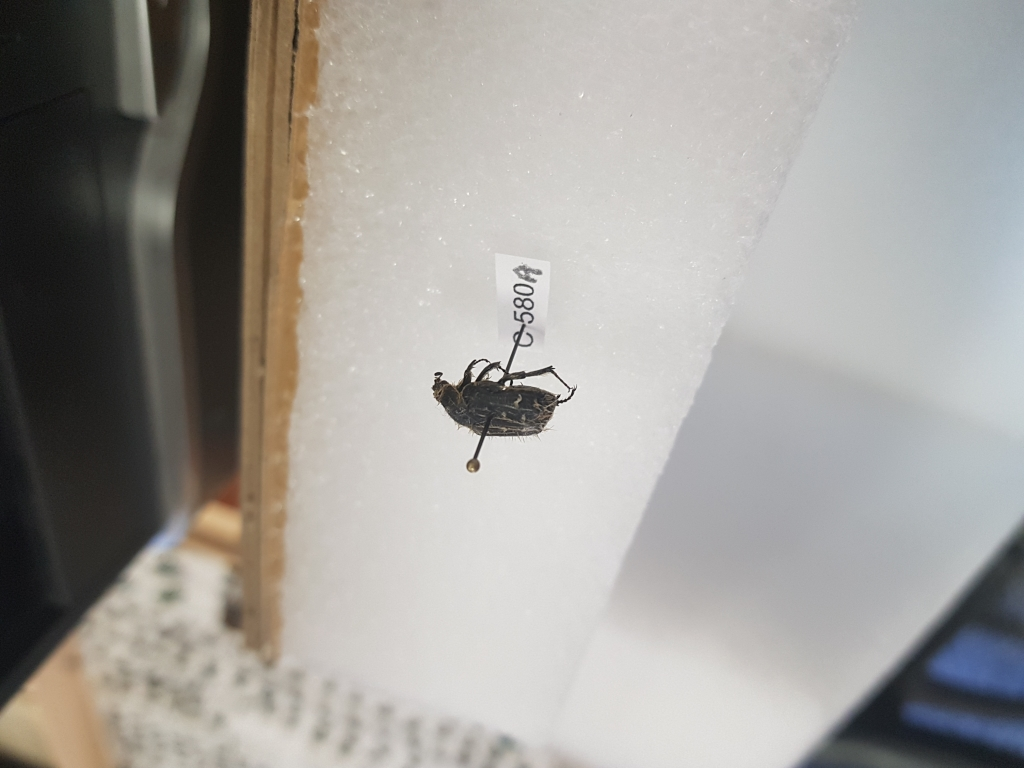Tropinota_hirta: (420, 357, 574, 441)
